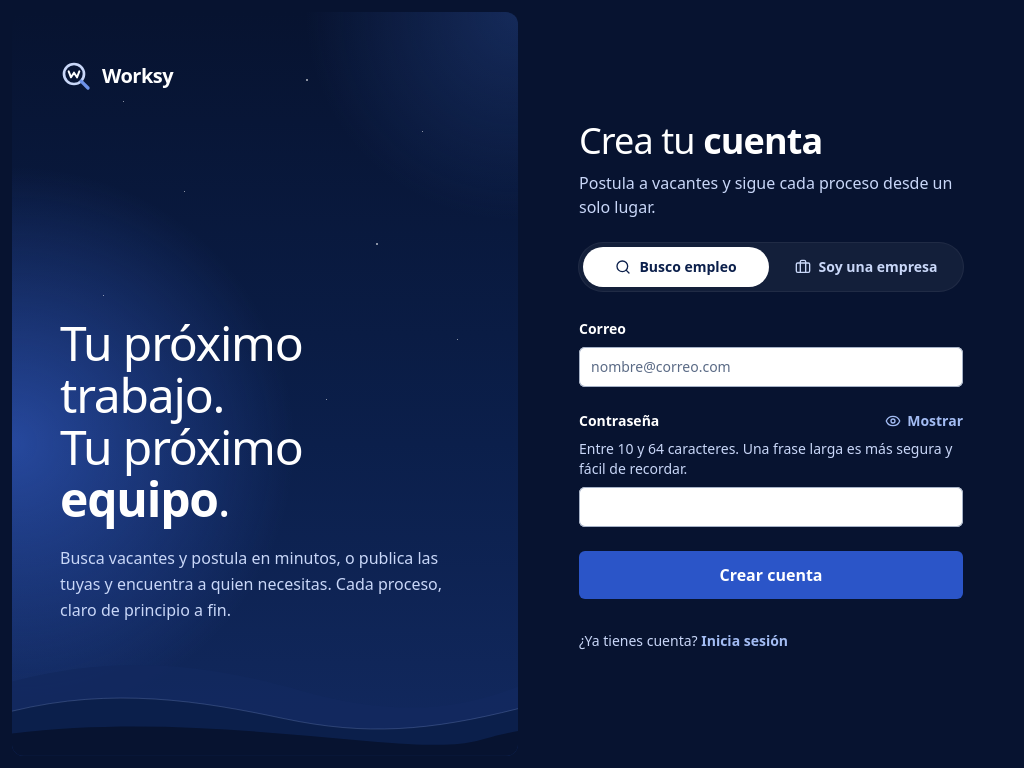
Test: RegisterPage (candidatos) › muestra el error de la API si el correo ya tiene cuenta
Type "ana@ejemplo.test" into the field labelled "Correo".
click(771, 366); type("ana@ejemplo.test")  # box [579,346,963,386]
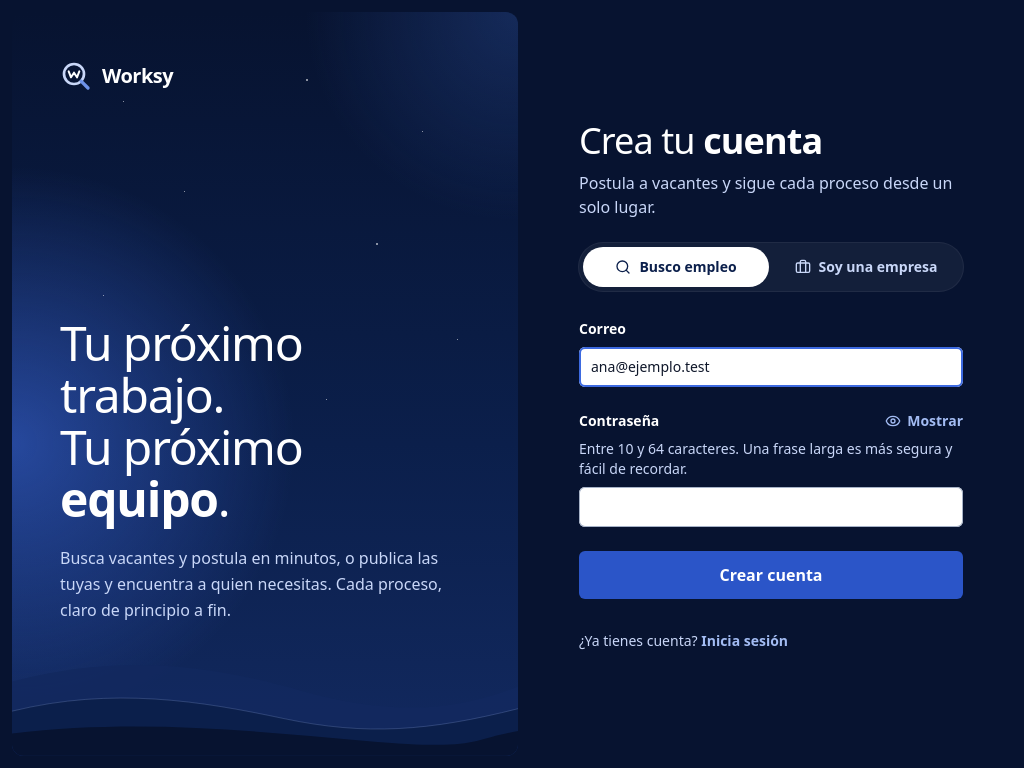
Type "frase-sintetica-larga" into the password field labelled "Contraseña".
click(771, 506); type("frase-sintetica-larga")  # box [579,486,963,526]
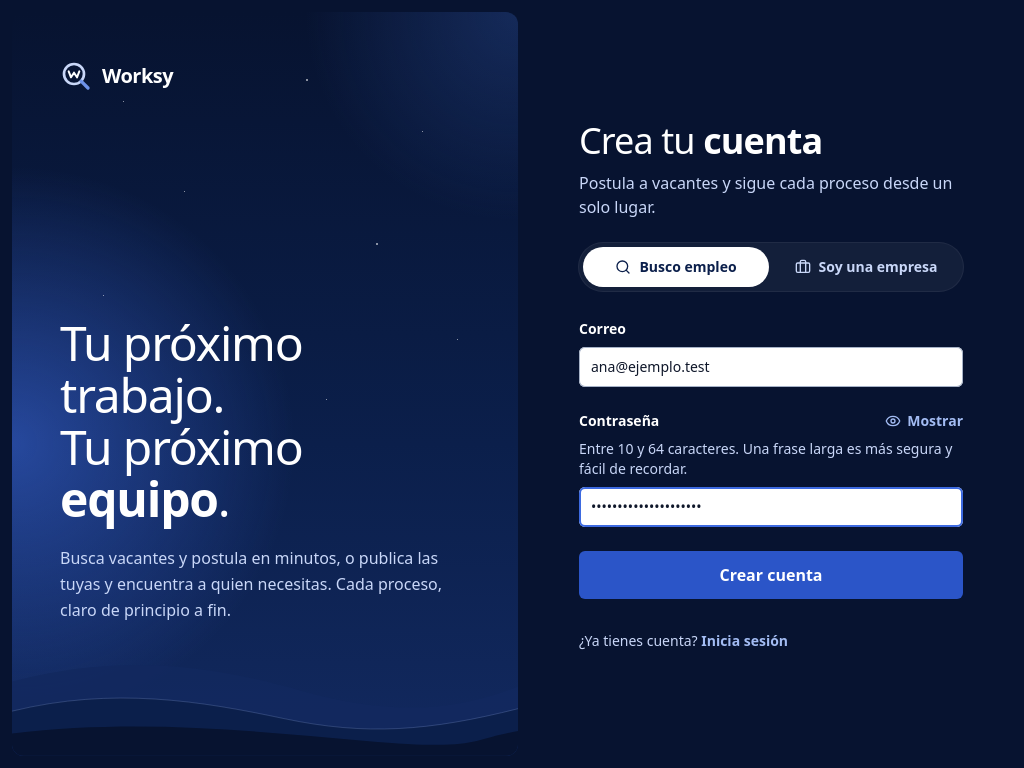
Click the button "Crear cuenta".
click(771, 574)  # box [579,550,963,598]
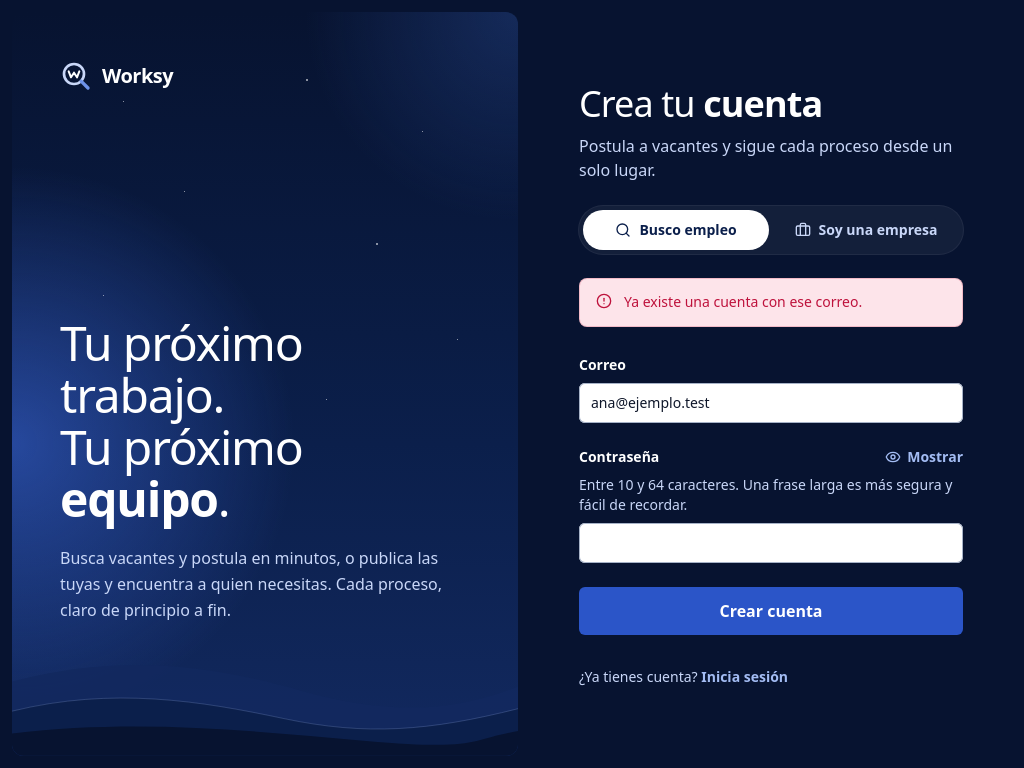
Result: the message reads "Ya existe una cuenta con ese correo." at [624,292,862,311]
